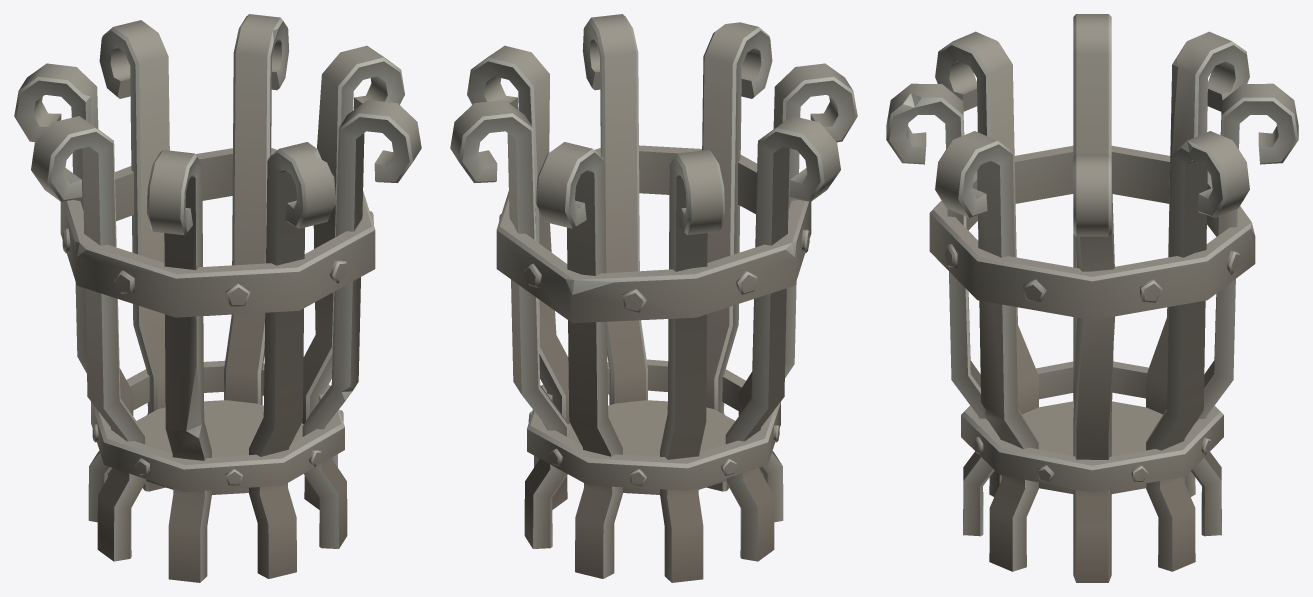
Rendered from FirePlace_1_1_C.glb.
The picture shows the model from 3 angles, left to right: view 1: azimuth 30°, elevation 25°; view 2: azimuth 150°, elevation 25°; view 3: azimuth 270°, elevation 25°; orthographic projection.
Parts seen in each view (by area): view 1: FirePlace_1_1_C; view 2: FirePlace_1_1_C; view 3: FirePlace_1_1_C.
Boxes of the visible parts, x1,y1,x2,y2 form: FirePlace_1_1_C: (14,14,421,582); FirePlace_1_1_C: (450,14,857,582); FirePlace_1_1_C: (886,14,1298,582).
Bounding box in the file's own units: 0.7082 × 0.8289 × 0.7082.
1 material, 1 textured.
